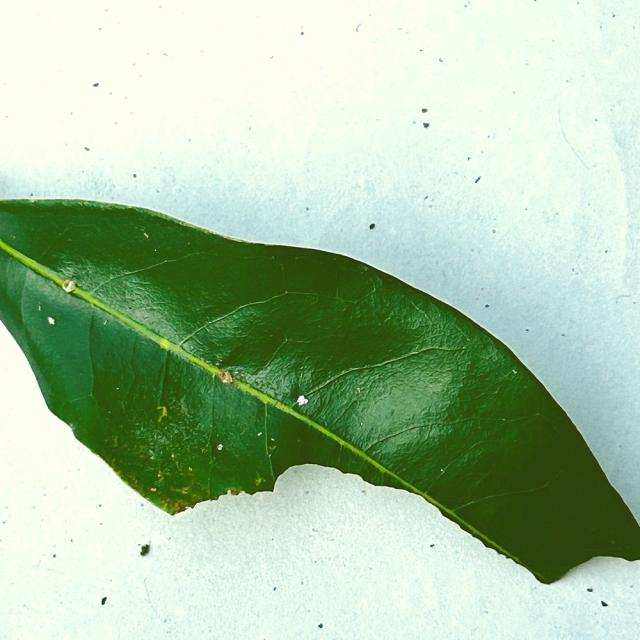Deficiency Leaf: (178, 468, 483, 570)
Lychee: (0, 200, 639, 587)
